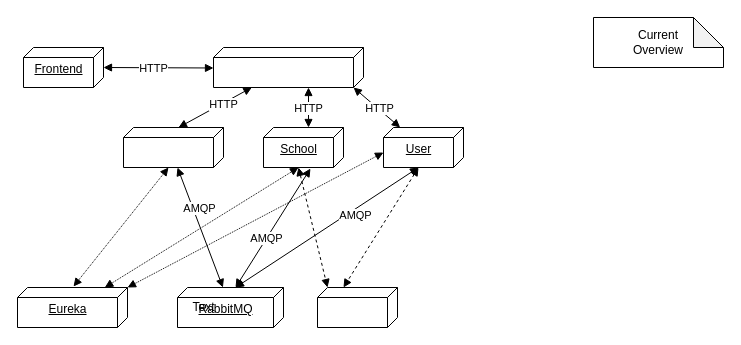
Some shapes in this 741 by 345 pixel diagram are drawn without their labels. Here are the shapes that lost their labels. From the top down, the box of each, then its label:
(212, 46, 364, 88): APIGATEWAY
(122, 126, 224, 168): Scheduler
(316, 286, 398, 328): Postgres
